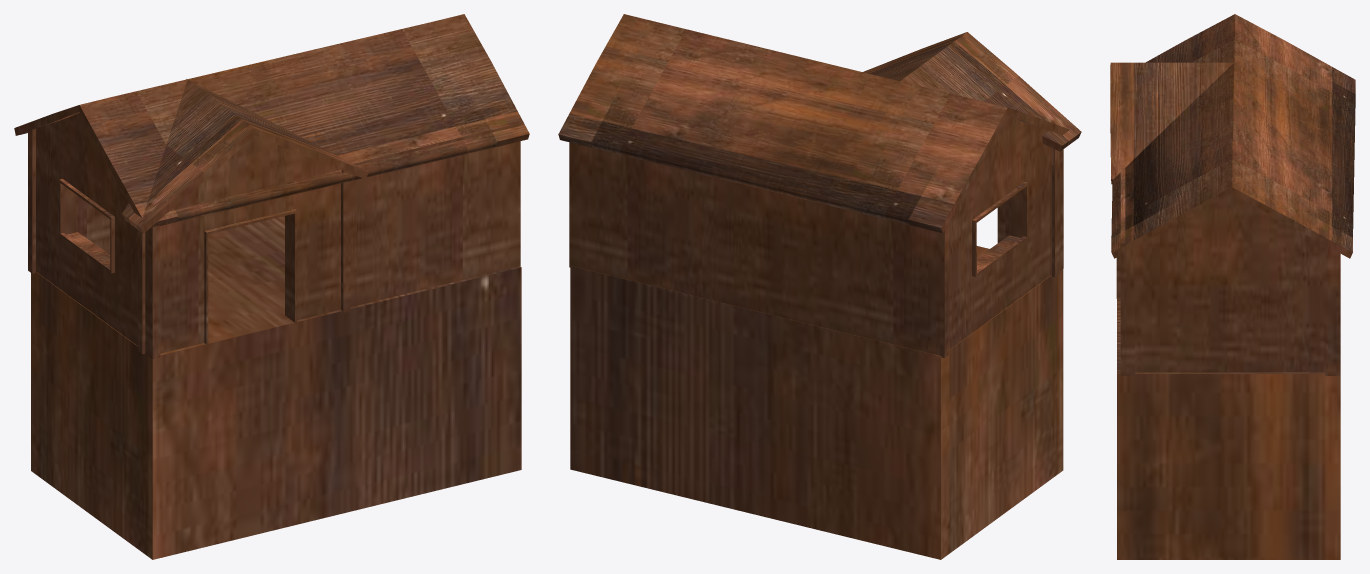
The model's file is Cabin_Elevated.fbx.
3 renders of one model, left to right at view 1: azimuth 30°, elevation 25°; view 2: azimuth 150°, elevation 25°; view 3: azimuth 270°, elevation 25°, orthographic. The views are drawn at different scales.
Parts seen in each view (by area): view 1: CabinWallPanel.003; view 2: CabinWallPanel.003; view 3: CabinWallPanel.003.
Boxes of the visible parts, bbox=[...] form: CabinWallPanel.003: bbox=[14, 14, 529, 559]; CabinWallPanel.003: bbox=[558, 14, 1081, 559]; CabinWallPanel.003: bbox=[1110, 14, 1355, 559].
Bounding box in the file's own units: 2728 × 2743 × 1620.
